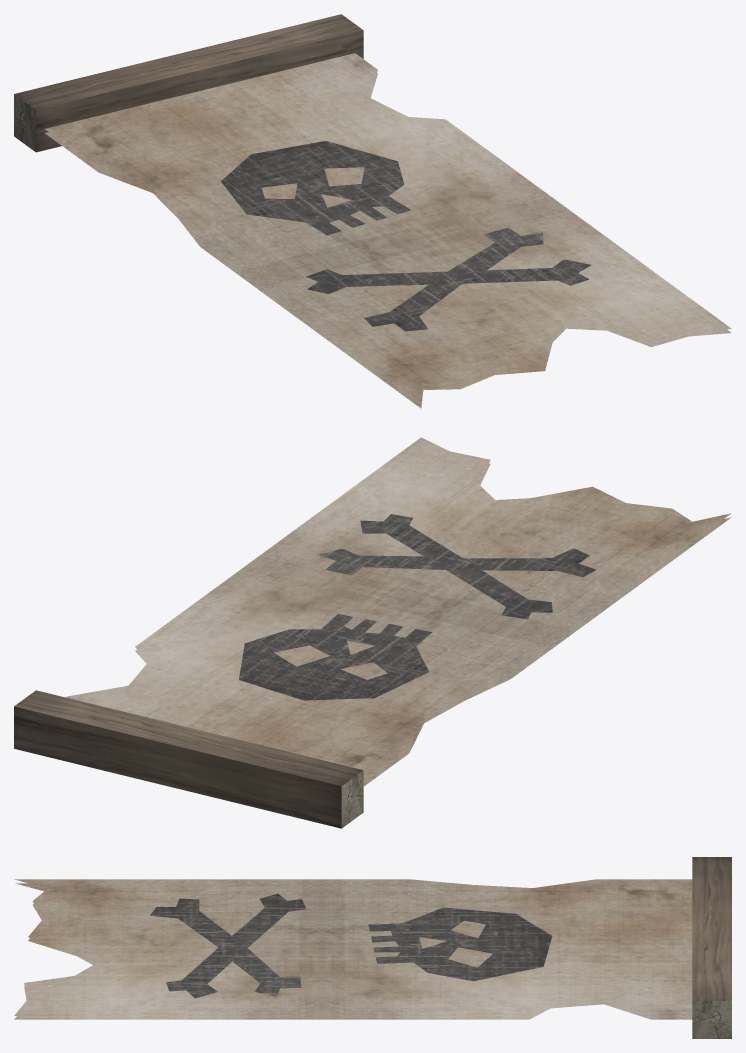
File: Pirate_Banner_Skull_C.fbx
3 views of the same model, one above another, from view 1: azimuth 30°, elevation 25°; view 2: azimuth 150°, elevation 25°; view 3: azimuth 270°, elevation 25° (orthographic). The views are drawn at different scales.
Visible parts, largest first — view 1: Pirate_Banner_Skull_C; view 2: Pirate_Banner_Skull_C; view 3: Pirate_Banner_Skull_C.
Part boxes in pixels (box(x1,y1,x2,y2)): Pirate_Banner_Skull_C: box(14, 14, 731, 408); Pirate_Banner_Skull_C: box(14, 437, 731, 828); Pirate_Banner_Skull_C: box(14, 857, 731, 1038).
Bounding box in the file's own units: 1.2 × 0.1485 × 2.54.
